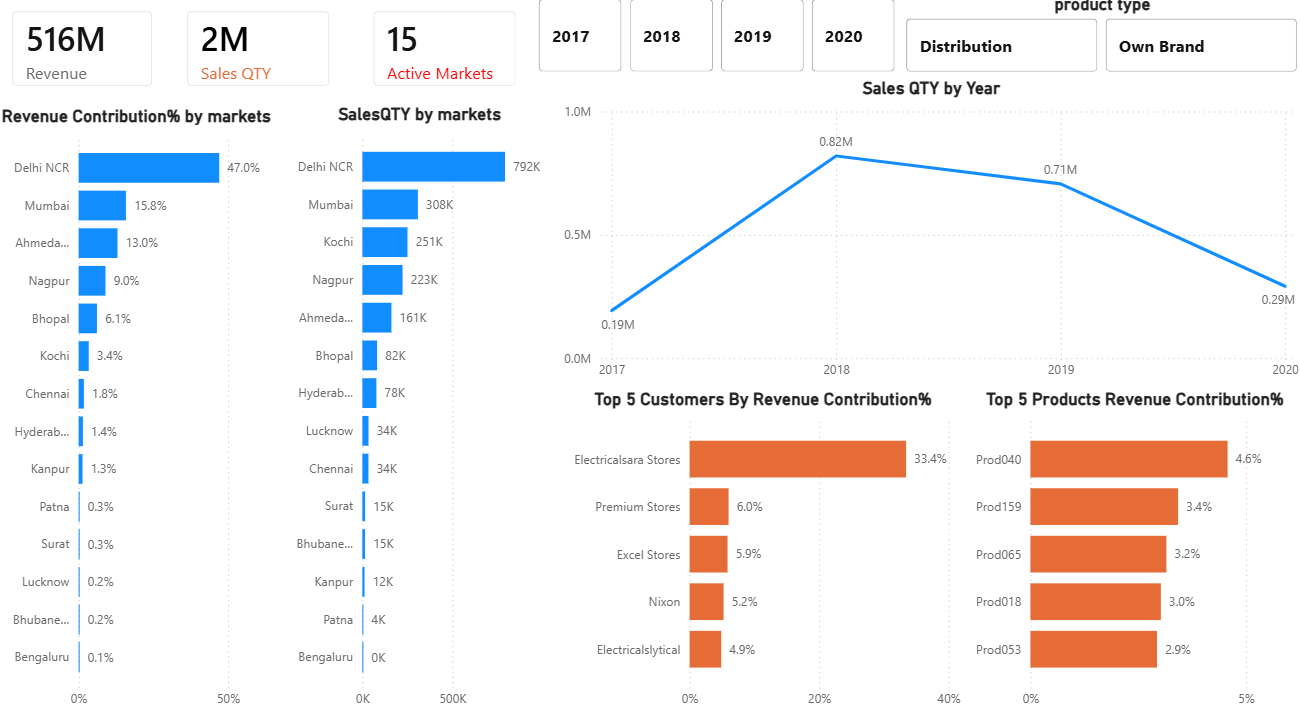

The page's visual inventory and layout, read from the dashboard file:
{"tool":"powerbi","page":{"name":"Key Insights","canvas":[1280,720],"ordinal":1},"visuals":[{"type":"cardVisual","fields":{"Data":["BaseMeasures.Revenue"]},"box":[0,0,171.2,107.6],"z":0},{"type":"cardVisual","fields":{"Data":["BaseMeasures.Sales QTY"]},"box":[171.2,0,173.6,107.6],"z":1000},{"type":"barChart","title":"Revenue Contribution% by markets","fields":{"Y":["BaseMeasures.Revenue Contribution %"],"Category":["sales markets.markets_name"]},"box":[0,109.4,276.5,598.8],"z":2000},{"type":"advancedSlicerVisual","fields":{"Values":["sales date.year"]},"box":[527,0,359.5,81.9],"z":3000},{"type":"barChart","title":"SalesQTY by markets","fields":{"Y":["BaseMeasures.Sales QTY"],"Category":["sales markets.markets_name"]},"box":[277,108.2,275.6,600.2],"z":4000},{"type":"barChart","title":"Top 5 Customers By Revenue Contribution%","fields":{"Category":["sales customers.custmer_name"],"Y":["BaseMeasures.Revenue Contribution %"]},"box":[552.7,386.4,397.4,321.6],"z":5000},{"type":"barChart","title":"Top 5 Products Revenue Contribution%","fields":{"Category":["sales products.product_code"],"Y":["BaseMeasures.Revenue Contribution %"]},"box":[950.1,386.4,330.2,321.6],"z":6000},{"type":"advancedSlicerVisual","title":"product type","fields":{"Values":["sales products.product_type"]},"box":[886.6,0,393.8,81.9],"z":7000},{"type":"lineChart","fields":{"Y":["BaseMeasures.Sales QTY"],"Category":["sales date.date.Variation.Date Hierarchy.Year","sales date.date.Variation.Date Hierarchy.Quarter","sales date.date.Variation.Date Hierarchy.Month","sales date.date.Variation.Date Hierarchy.Day"]},"box":[551.5,81.9,728.8,304.5],"z":8000},{"type":"cardVisual","fields":{"Data":["BaseMeasures.Active Markets"]},"box":[353.4,0,173.6,107.6],"z":9000}]}

Visuals, with their boxes in screenshot pixels (x1, y1, x2, y2), scaled from the page's 1280x720 canvas onto the 1300x727 screenshot:
cardVisual - BaseMeasures.Revenue: bbox=[0, 0, 174, 109]
cardVisual - BaseMeasures.Sales QTY: bbox=[174, 0, 350, 109]
"Revenue Contribution% by markets" barChart: bbox=[0, 110, 281, 715]
advancedSlicerVisual - sales date.year: bbox=[535, 0, 900, 83]
"SalesQTY by markets" barChart: bbox=[281, 109, 561, 715]
"Top 5 Customers By Revenue Contribution%" barChart: bbox=[561, 390, 965, 715]
"Top 5 Products Revenue Contribution%" barChart: bbox=[965, 390, 1299, 715]
"product type" advancedSlicerVisual: bbox=[900, 0, 1299, 83]
lineChart - BaseMeasures.Sales QTY x sales date.date.Variation.Date Hierarchy.Year: bbox=[560, 83, 1299, 390]
cardVisual - BaseMeasures.Active Markets: bbox=[359, 0, 535, 109]
